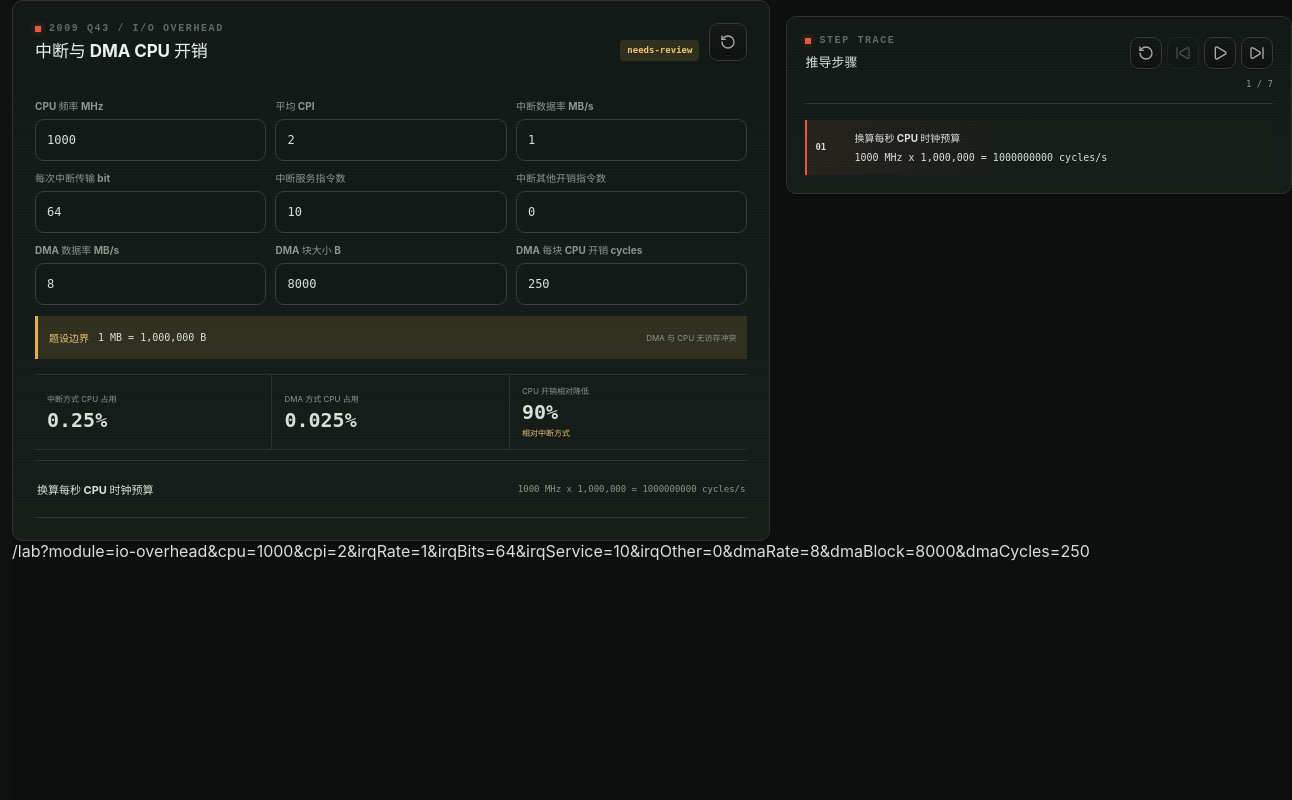
Test: IoOverheadLabPanel › restores custom parameters from the URL and writes edits back to it
Expected: the text named "中断方式 CPU 占用" reads "0.25%", [47, 408, 107, 432]
Expected: the text named "DMA 方式 CPU 占用" reads "0.025%", [284, 408, 357, 432]
Replace the text in the number field labelled "CPU 频率 MHz" with "500" at (151, 140), box [35, 119, 266, 161]
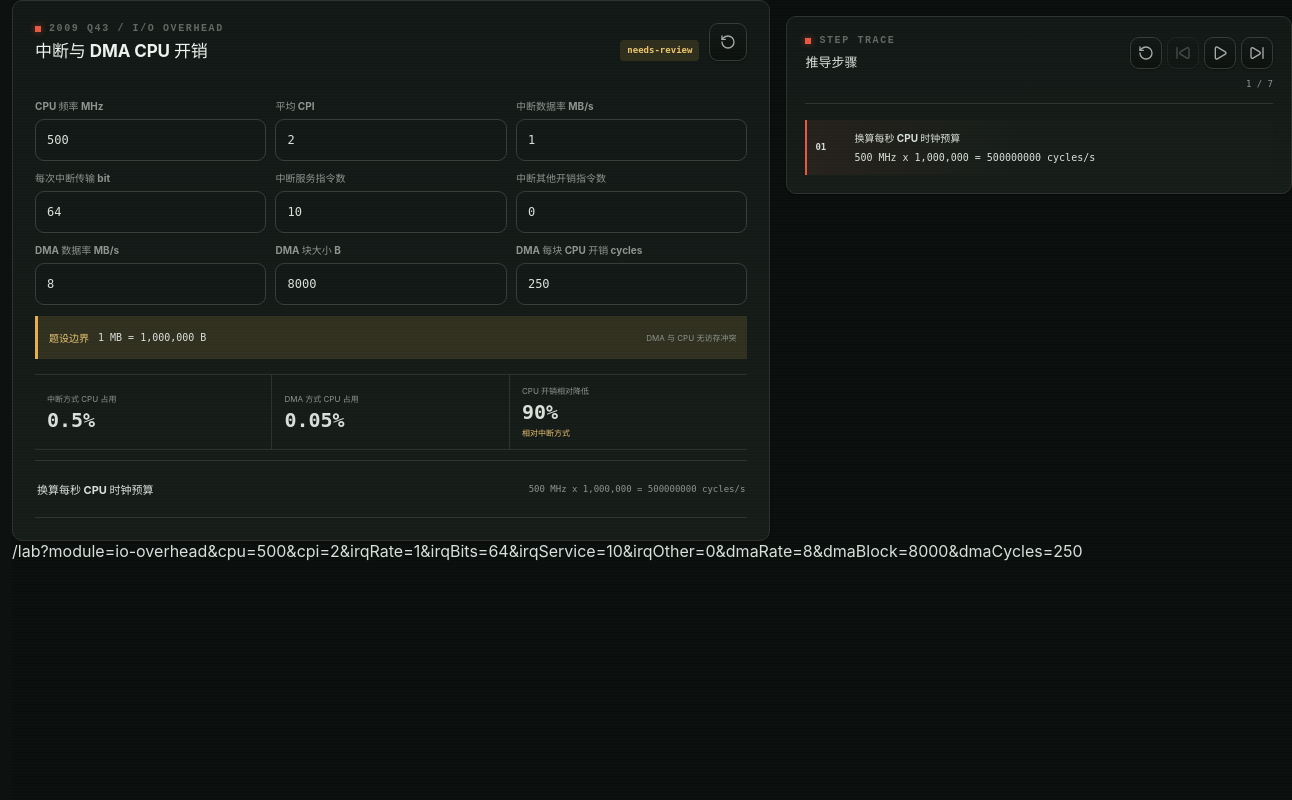
Expected: the text named "current URL" shows "module=io-overhead", [12, 541, 1083, 561]
Expected: the text named "current URL" shows "cpu=500", [12, 541, 1083, 561]
